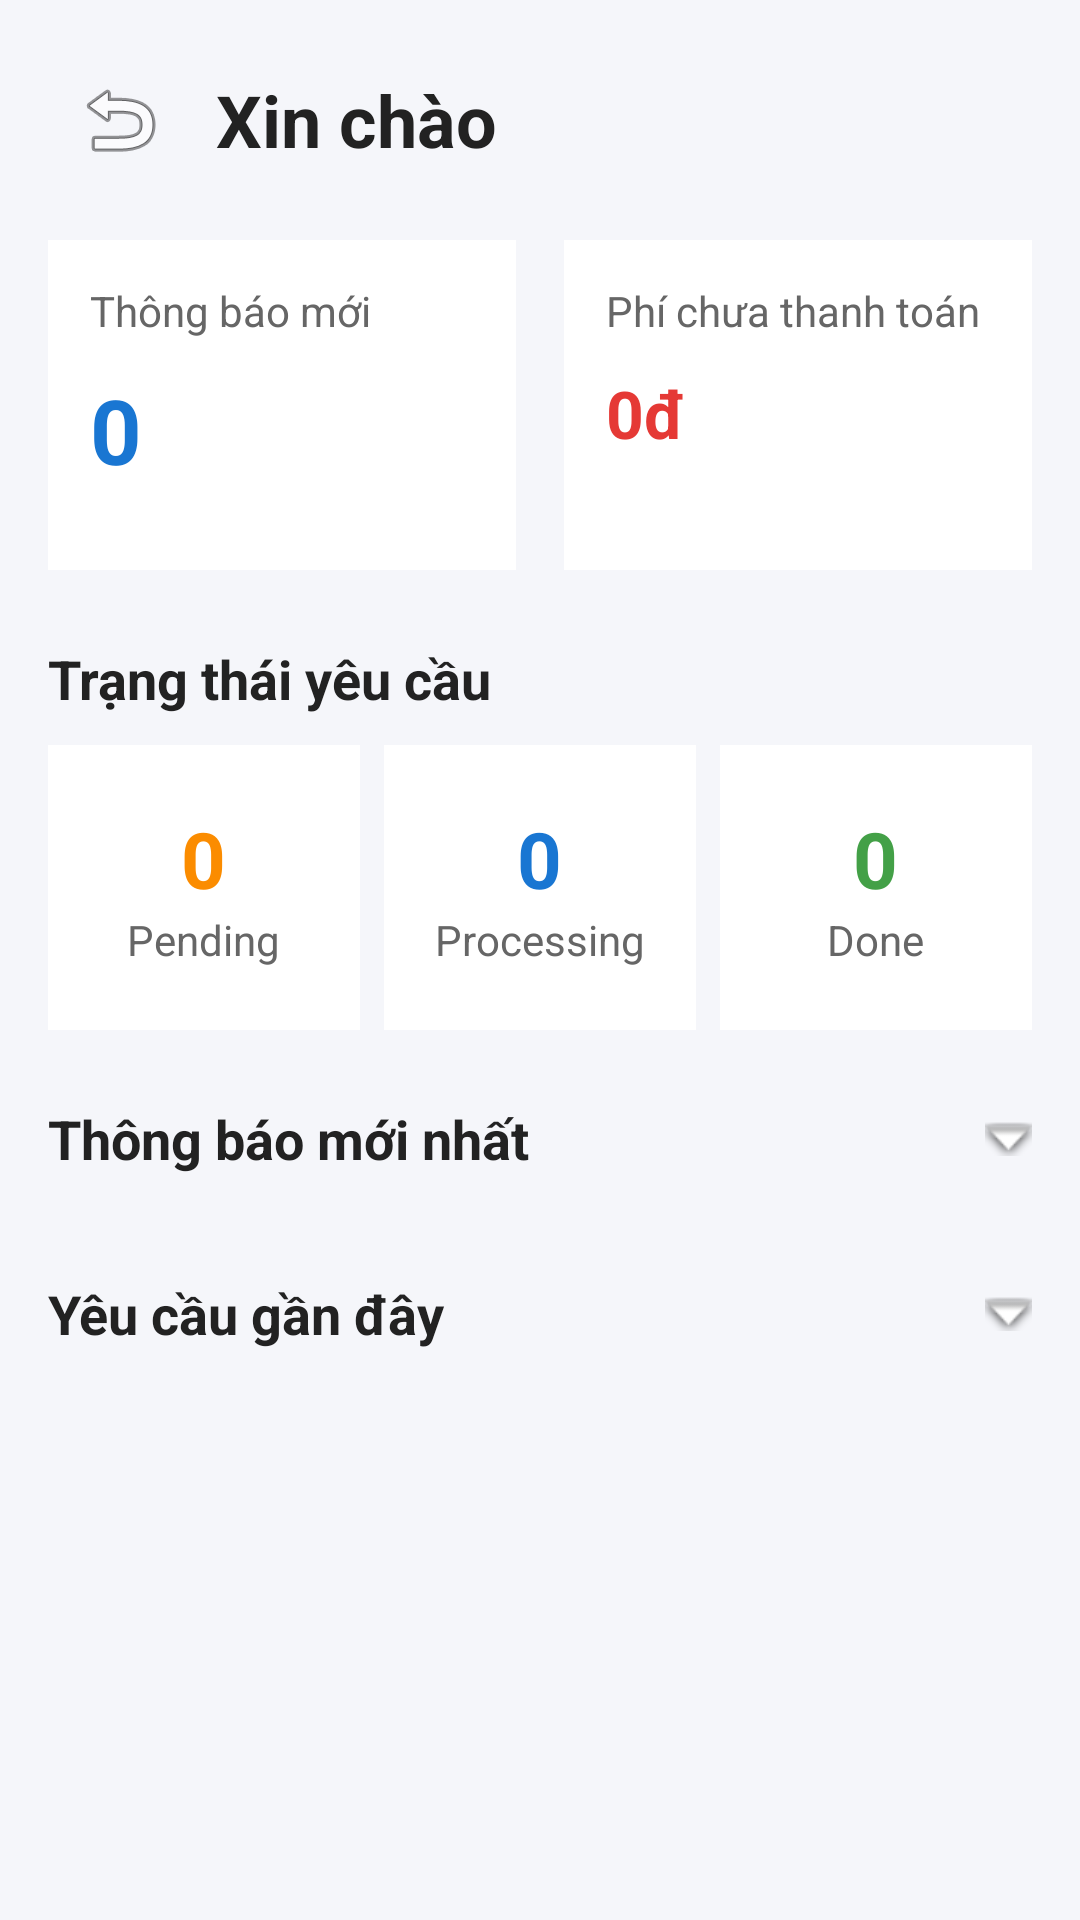

Icons on this 1080w x 1920h Android screen, each with the point to tap as (x,y):
arrow down float: (1008,1139), (1008,1314)
Back: (121,120)
